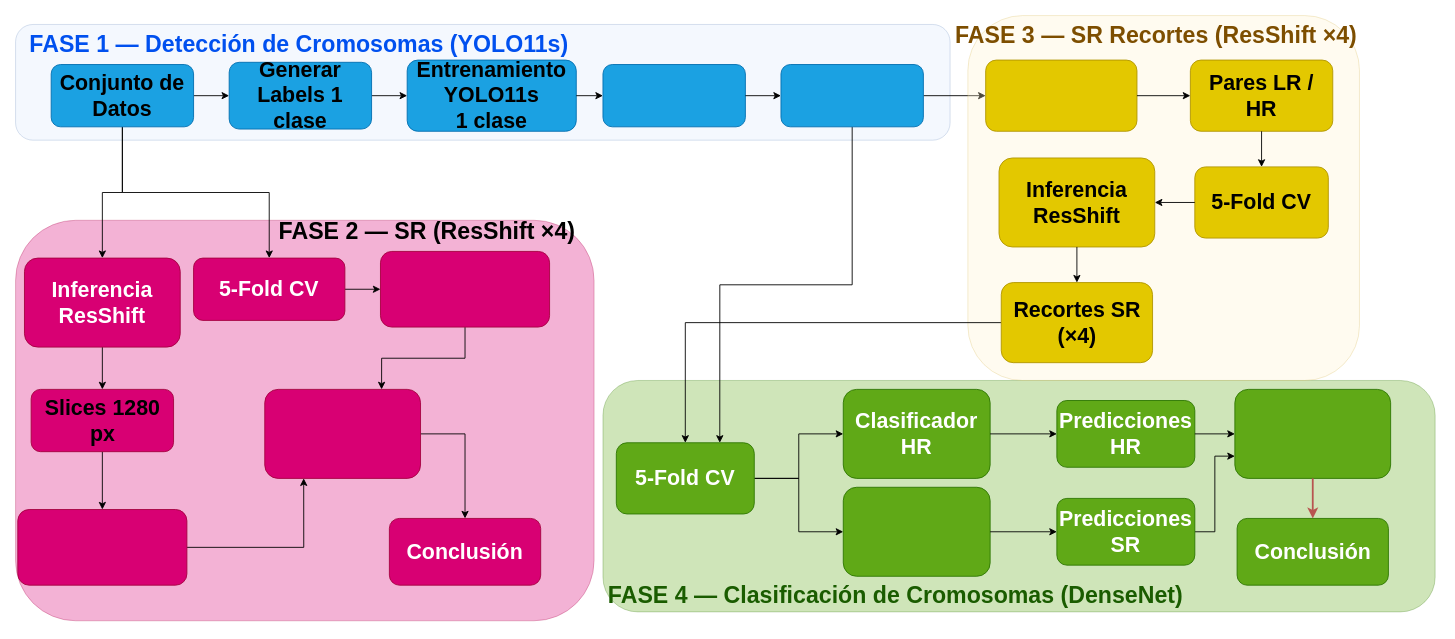
Some shapes in this 1455 by 639 pixel diagram are drawn without their labels. Each missing label, with the centre of its shape:
"Clasificadores SR" belongs at [916,531].
"Comparación HR vs. SR" belongs at [1312,433].
"Degradación ×4 Bicúbica" belongs at [1061,95].
"Entrenamiento YOLO11s 2 clases" belongs at [102,547].
"Entrenamientos YOLO11s 2 clases" belongs at [465,289].
"Predicciones BBox" belongs at [673,95].
"Recortes HR" belongs at [851,95].
"Validación HR vs. SR" belongs at [342,433].
